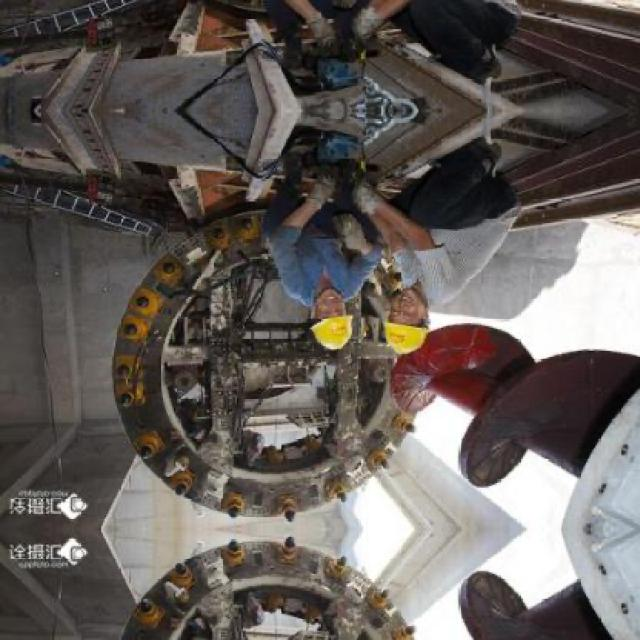con casco: (287, 288, 352, 360), (385, 286, 443, 348)
